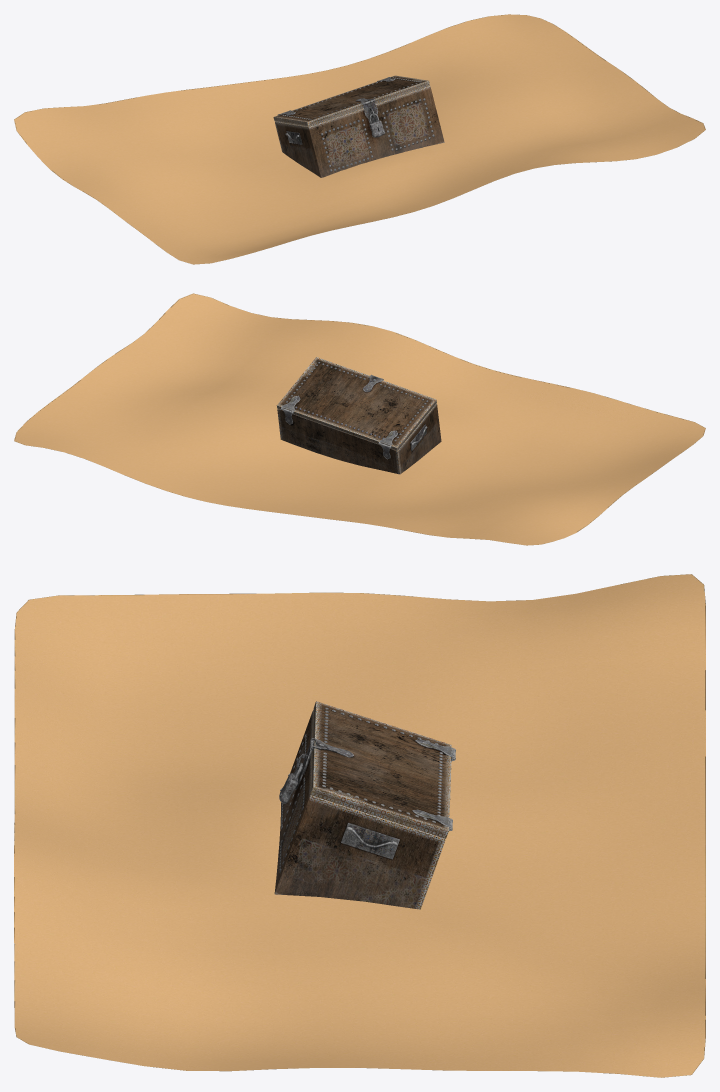
Rendered from chest_2.fbx.
3 views of the same model, one above another, from view 1: azimuth 30°, elevation 25°; view 2: azimuth 150°, elevation 25°; view 3: azimuth 270°, elevation 25° (orthographic). The views are drawn at different scales.
Parts seen in each view (by area): view 1: Plane, chest.001, chest; view 2: Plane, chest.001, chest; view 3: Plane, chest.001, chest.
Boxes of the visible parts, left/top/right/bottom form: Plane: left=14, top=14, right=705, bottom=264; chest.001: left=273, top=75, right=444, bottom=177; chest: left=277, top=77, right=434, bottom=171; Plane: left=14, top=293, right=705, bottom=545; chest.001: left=276, top=357, right=441, bottom=474; chest: left=281, top=362, right=428, bottom=459; Plane: left=14, top=574, right=705, bottom=1077; chest.001: left=274, top=701, right=451, bottom=909; chest: left=279, top=707, right=455, bottom=872.
Bounding box in the file's own units: 409 × 67.93 × 252.
